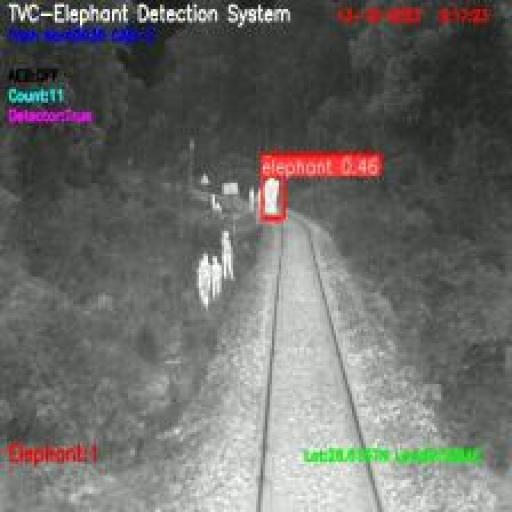Elephant: (263, 176, 283, 221)
